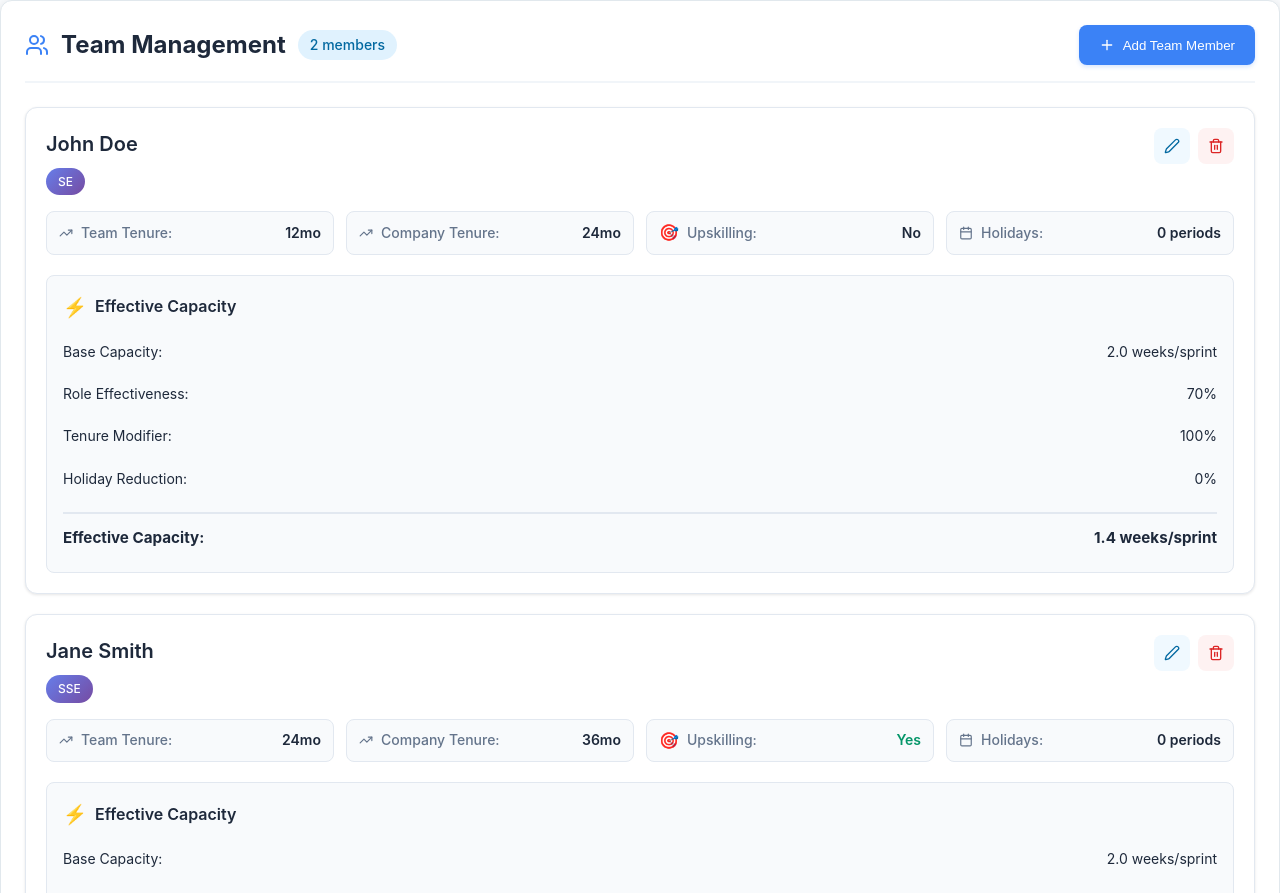
Test: TeamManagement › Edit Button Functionality › should show edit form when edit button is clicked
The width and height of the screenshot is (1280, 893).
What coordinates should you click on to do the following:
click the button titled "Edit member" in the row of "John Doe"
I would click on:
 (1172, 146)
Its box is [1154,128,1190,164].
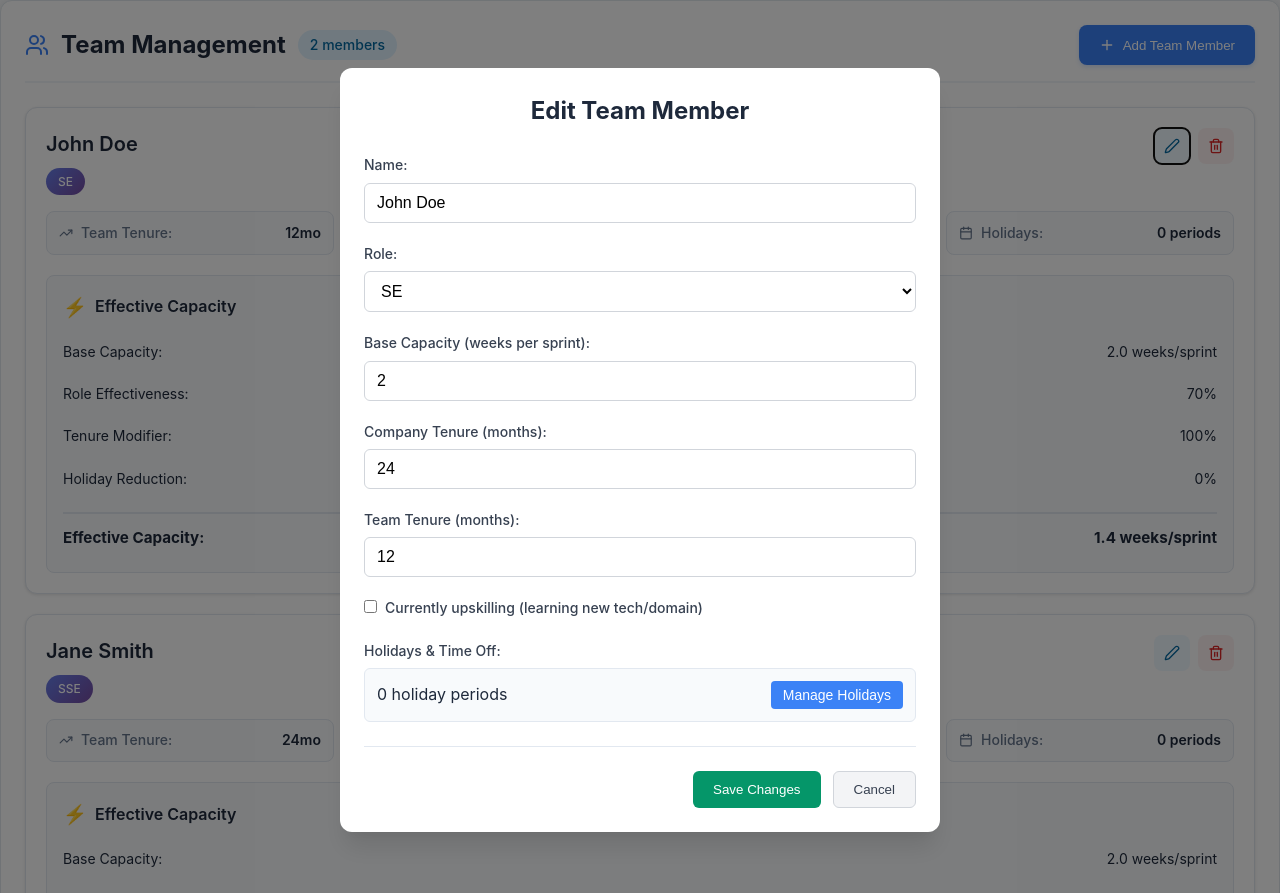
Now the heading "Edit Team Member" is shown, box [531,96,749,125]
Now the field showing "John Doe" is shown, box [364,183,916,223]
